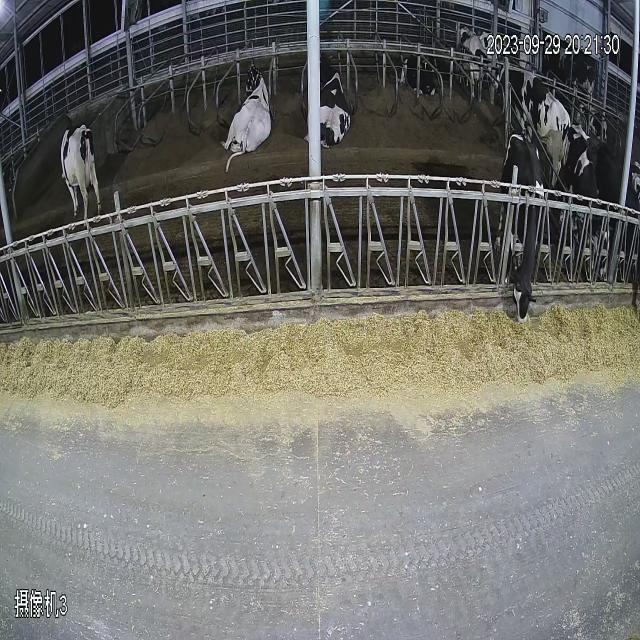feeding: (499, 114, 539, 342)
lying down: (311, 54, 368, 178), (225, 52, 277, 168), (399, 42, 445, 104)
standing: (40, 102, 124, 236), (538, 85, 598, 178)
